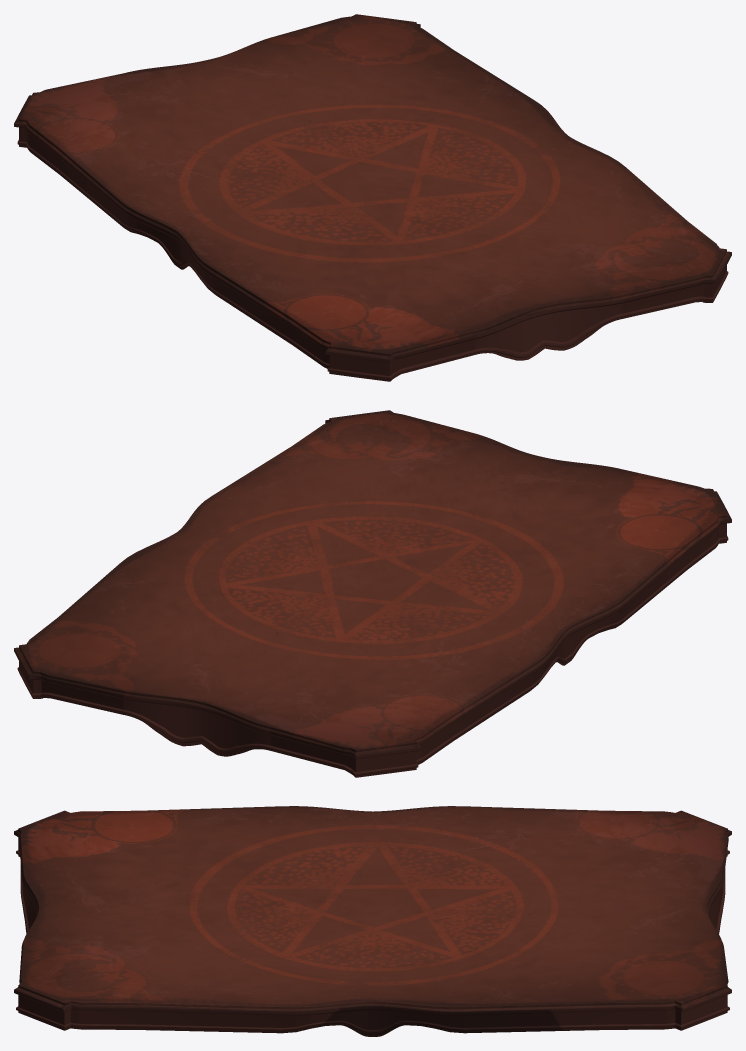
File: Tablero.obj
3 views of the same model, one above another, from view 1: azimuth 30°, elevation 25°; view 2: azimuth 150°, elevation 25°; view 3: azimuth 270°, elevation 25° (orthographic).
Visible parts, largest first — view 1: pCube4; view 2: pCube4; view 3: pCube4.
Part boxes in pixels (left/top/right/bottom): pCube4: left=14, top=14, right=731, bottom=381; pCube4: left=14, top=410, right=731, bottom=777; pCube4: left=14, top=806, right=731, bottom=1036.
Size of the model in its own units: 7.57 by 0.7753 by 11.33.
Materials: 1 (1 with a texture image).
